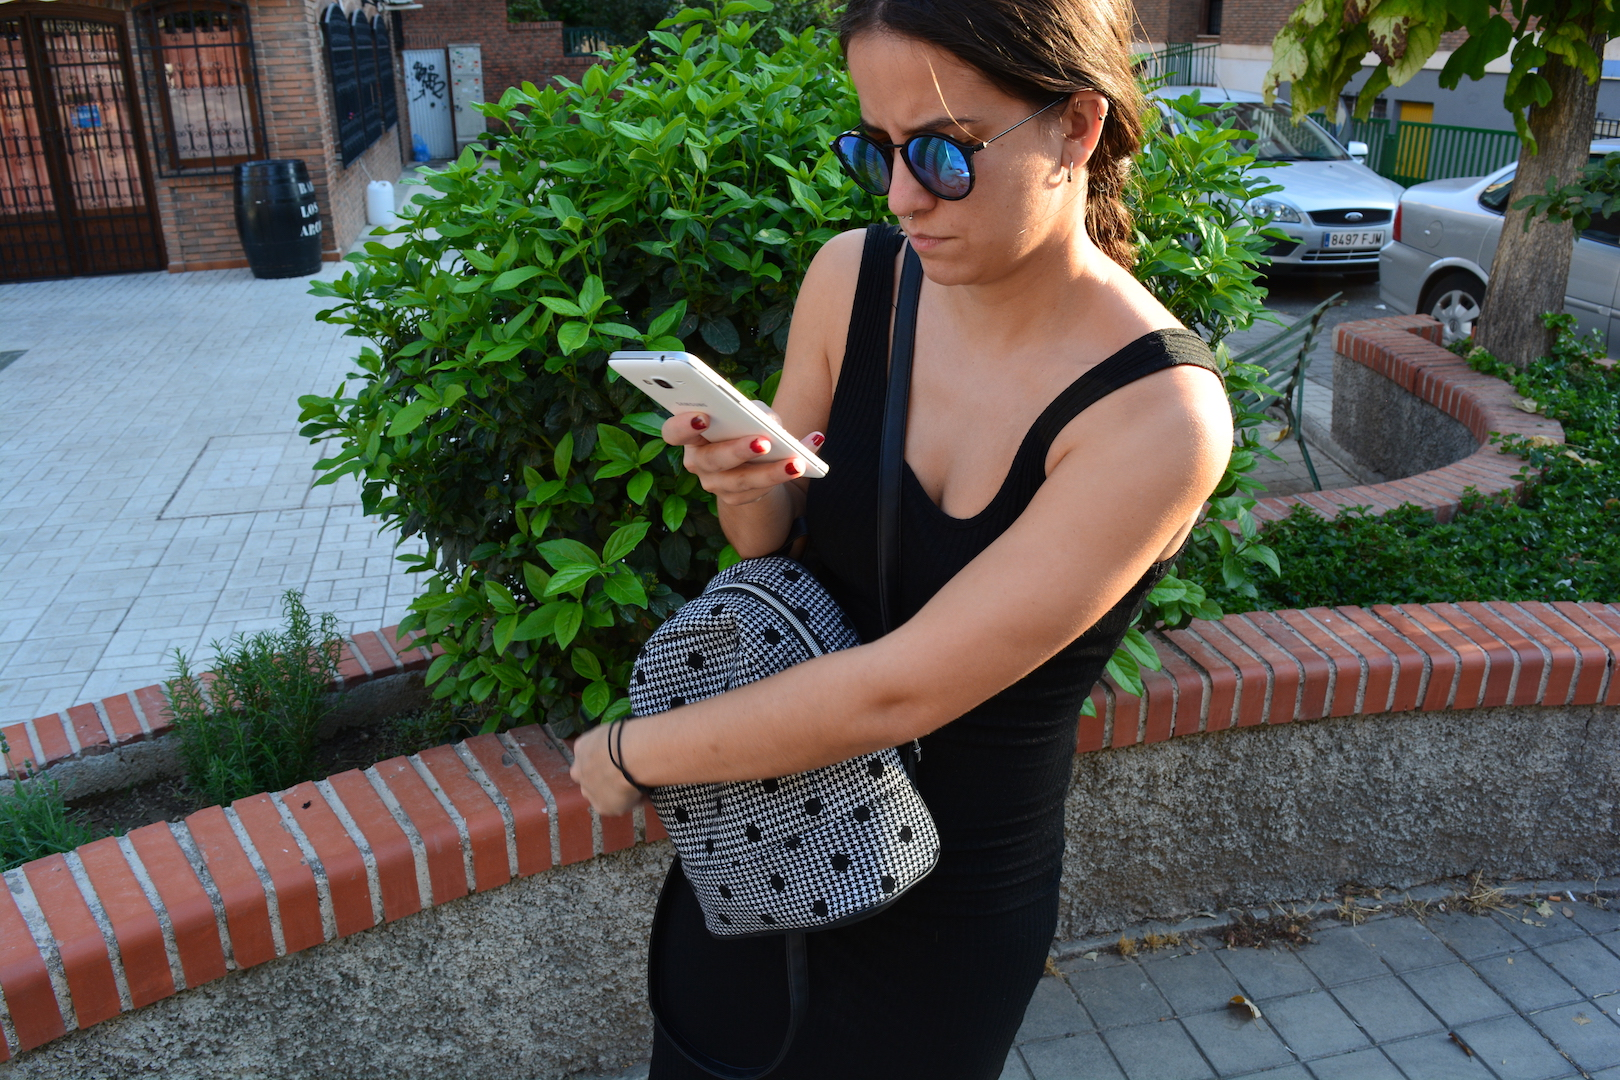smartphone: (604, 345, 832, 486)
